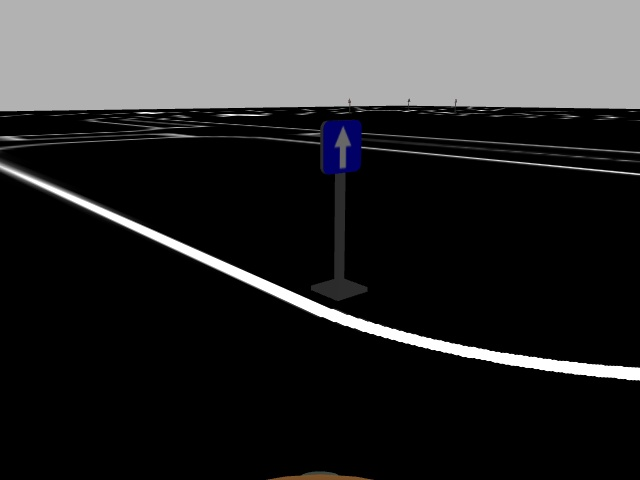oneway: (320, 119, 365, 177)
